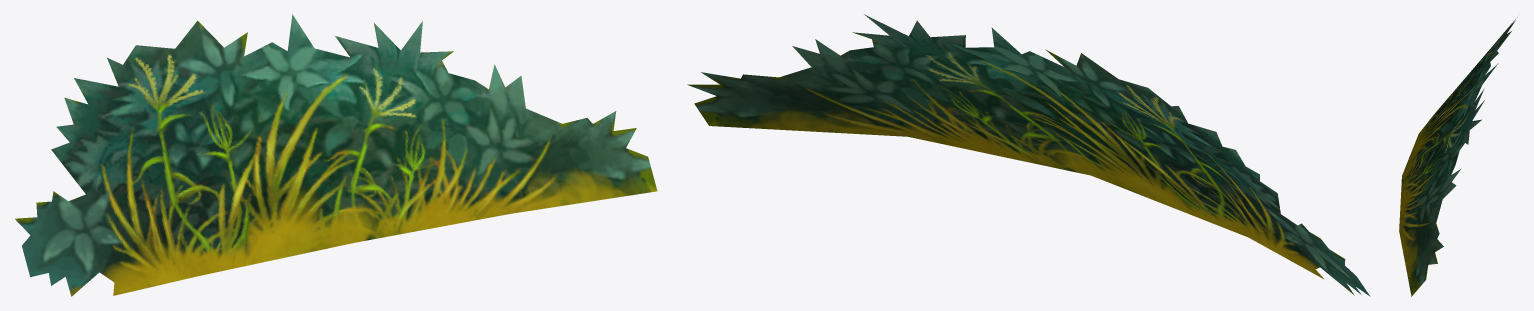
File: sences_changbanpo_guanmu001.FBX
3 renders of one model, left to right at view 1: azimuth 30°, elevation 25°; view 2: azimuth 150°, elevation 25°; view 3: azimuth 270°, elevation 25°, orthographic. The views are drawn at different scales.
Parts seen in each view (by area): view 1: sences_changbanpo_guanmu001.max; view 2: sences_changbanpo_guanmu001.max; view 3: sences_changbanpo_guanmu001.max.
Part boxes in pixels (<box>): sences_changbanpo_guanmu001.max: <box>15,14,657,296</box>; sences_changbanpo_guanmu001.max: <box>687,14,1370,296</box>; sences_changbanpo_guanmu001.max: <box>1399,17,1517,296</box>.
Bounding box in the file's own units: 4.92 × 1.3 × 1.67.
